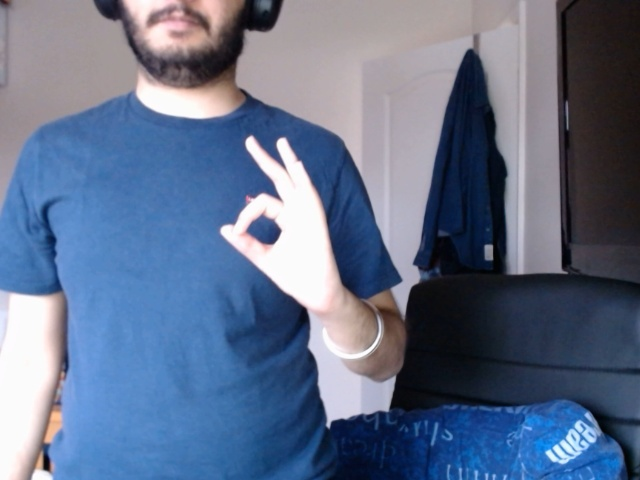Okay: (196, 130, 349, 320)
